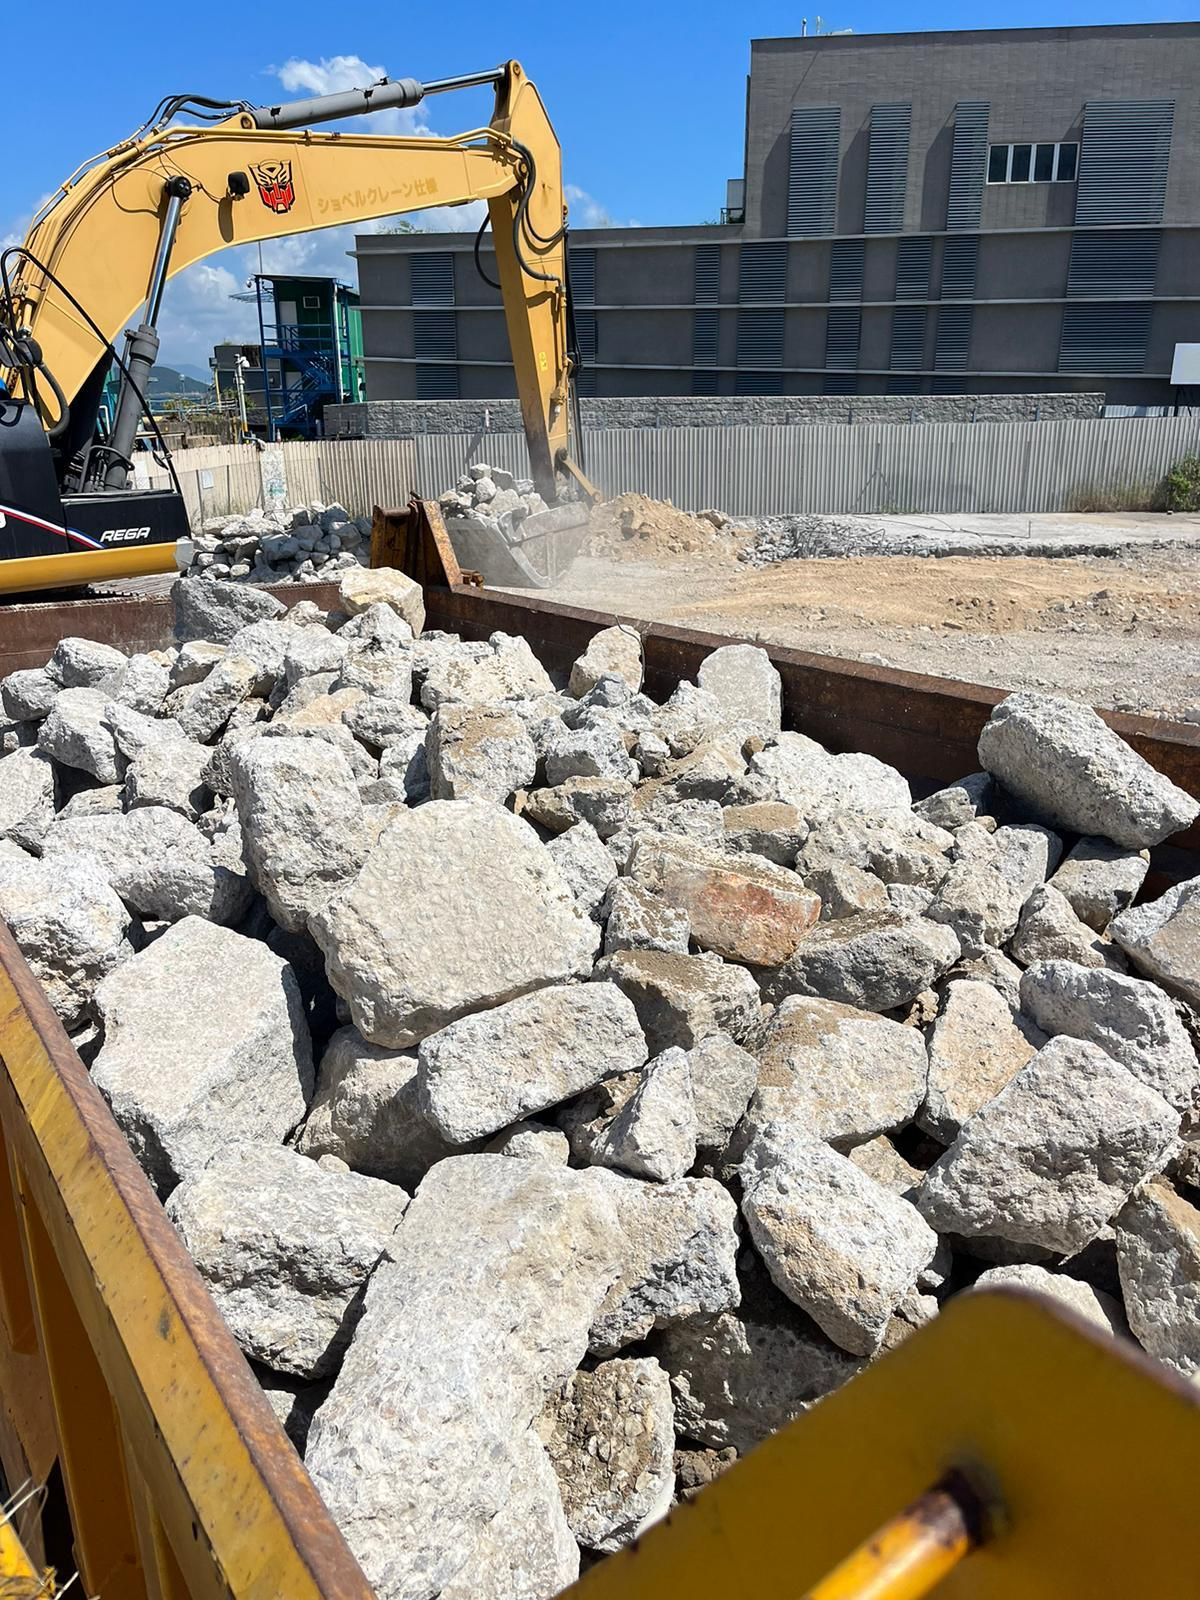dry: (0, 572, 1190, 1600)
